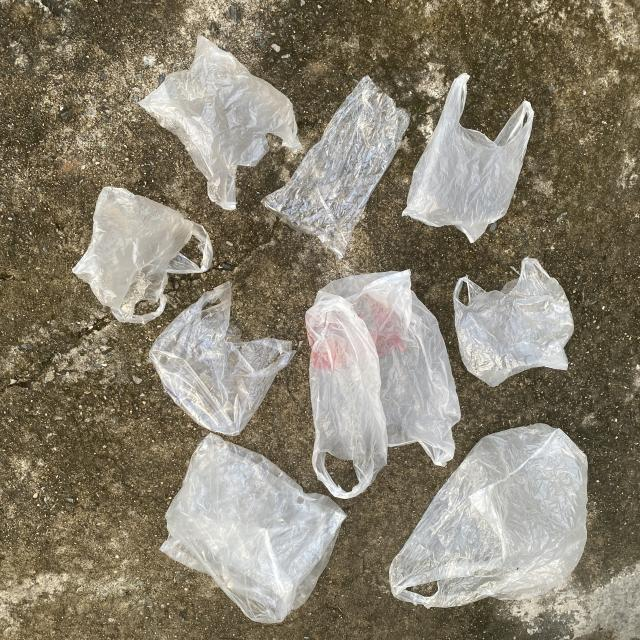Single-layer Plastic: (390, 424, 588, 608), (305, 270, 460, 499), (160, 434, 345, 624), (139, 36, 301, 210), (264, 76, 410, 259), (149, 282, 295, 435), (402, 74, 534, 242), (72, 186, 212, 324), (454, 258, 574, 386)
